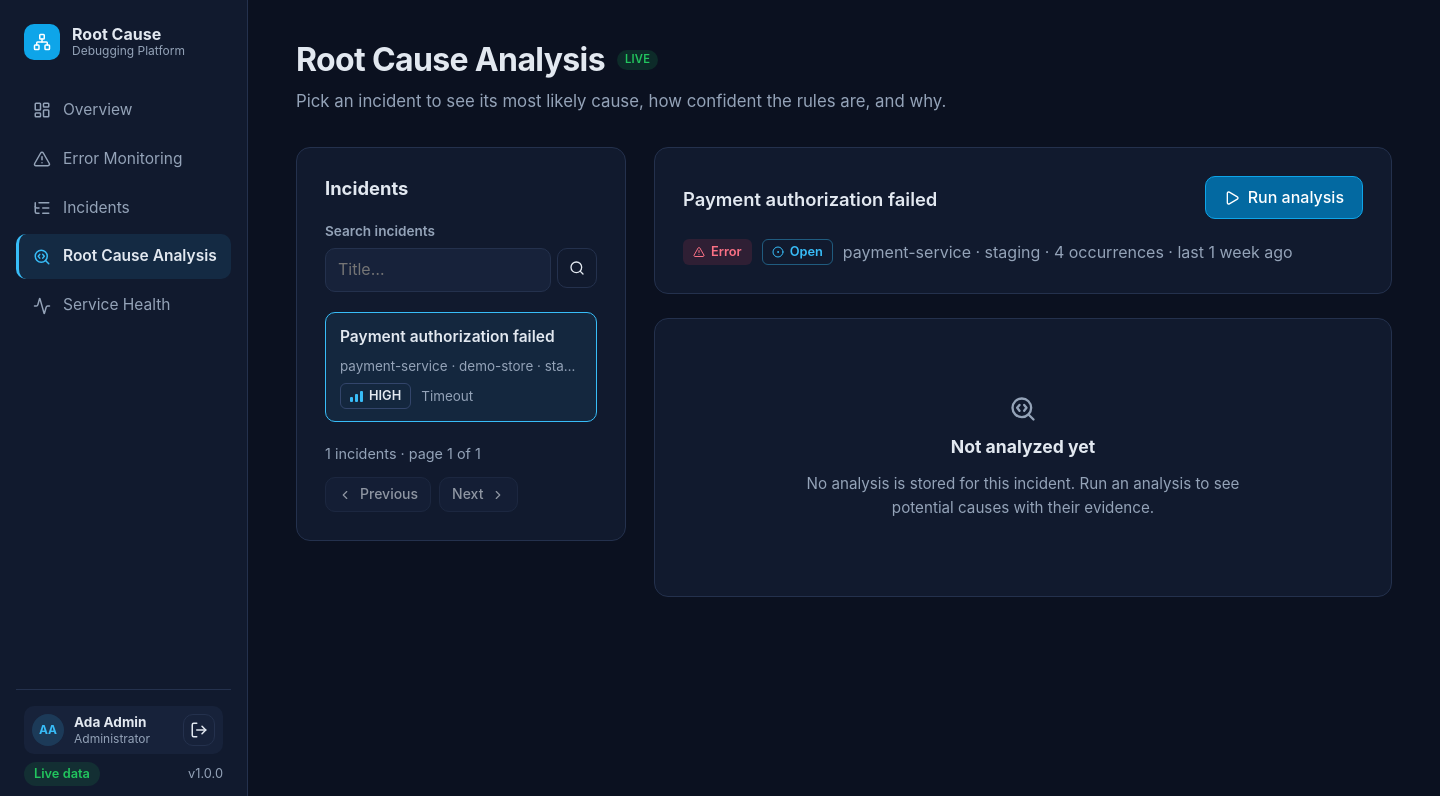
Scenario: RootCauseAnalysisPage › runs an analysis for an incident that has none and shows the result
Expected: the heading "Not analyzed yet" is shown, [951,433,1095,462]
Click the button "Run analysis" at (1284, 198), box [1205,176,1363,220]
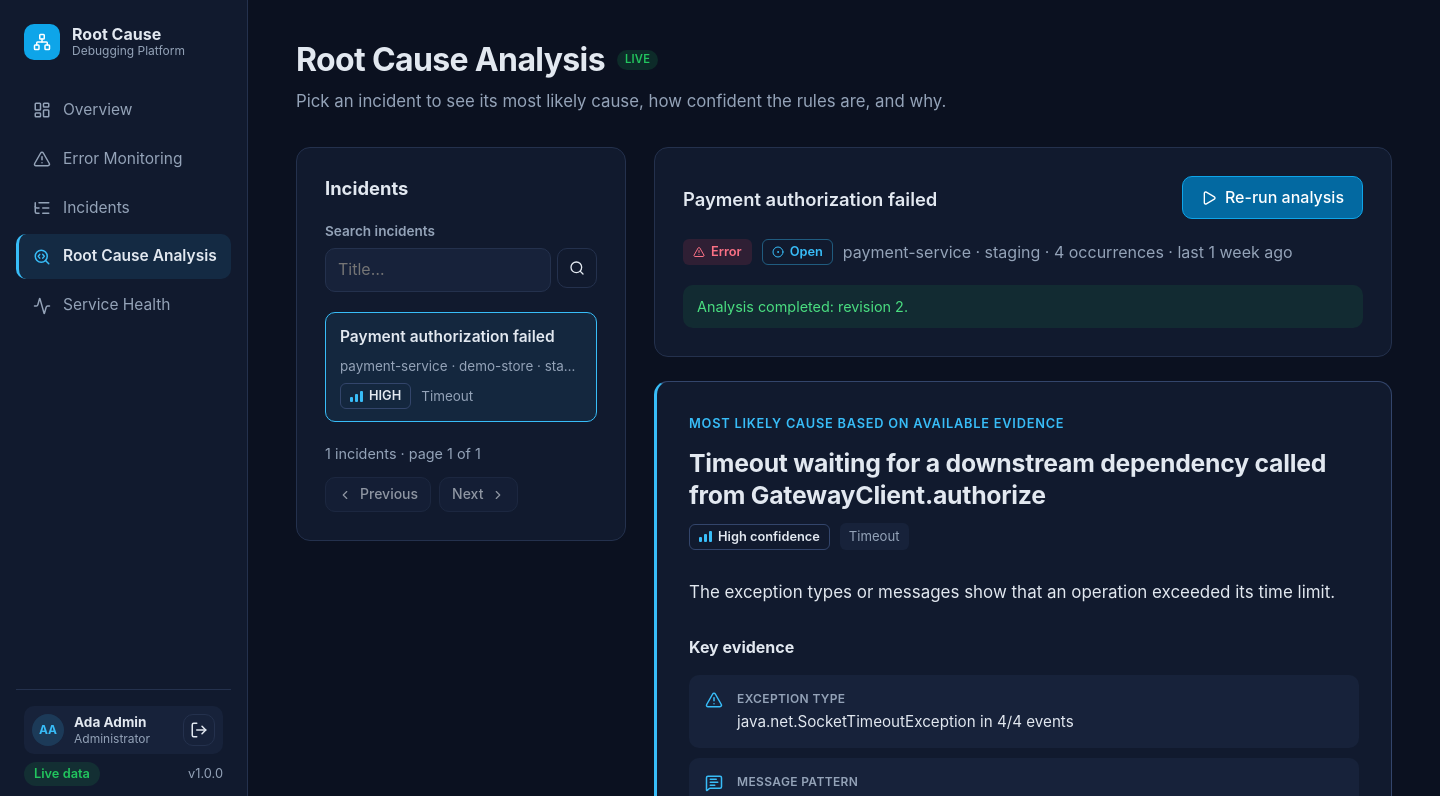
Expected: the text "Analysis completed: revision 2." is shown, [683,285,1363,328]
Expected: the button "Re-run analysis" is shown, [1182,176,1363,220]
